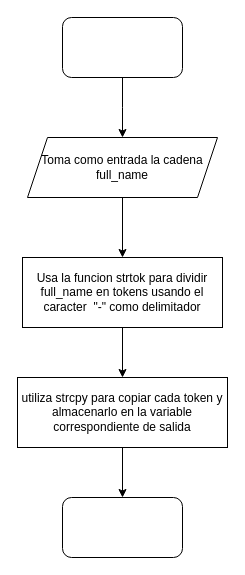
This 245x575 diagram has some shape labels left out. Each missing label, with the centre of its shape:
FIN: the point at 122,527
INICIO: the point at 122,47
